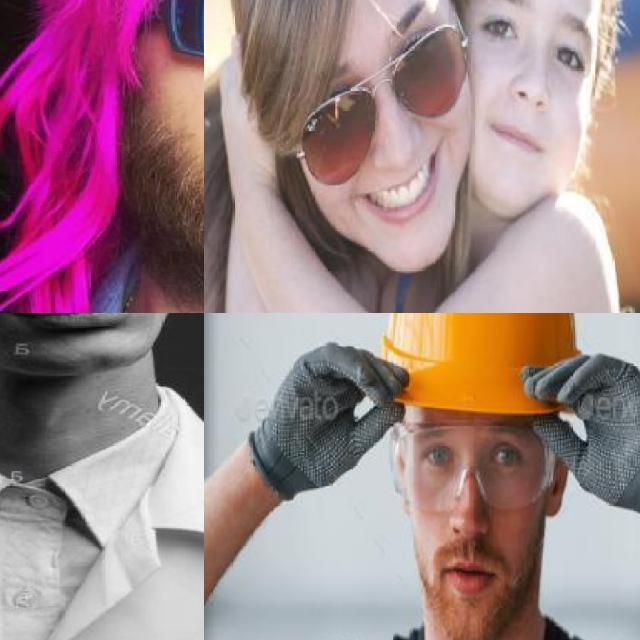face_mask: (384, 416, 560, 511)
face_nomask: (296, 23, 464, 226), (470, 0, 595, 171), (414, 437, 534, 608)
glasses: (284, 10, 472, 175)
hand_glove: (239, 341, 411, 504), (516, 341, 640, 526)
hand_noglove: (209, 40, 287, 174)
head_helmet: (243, 313, 640, 640), (375, 313, 586, 418)
